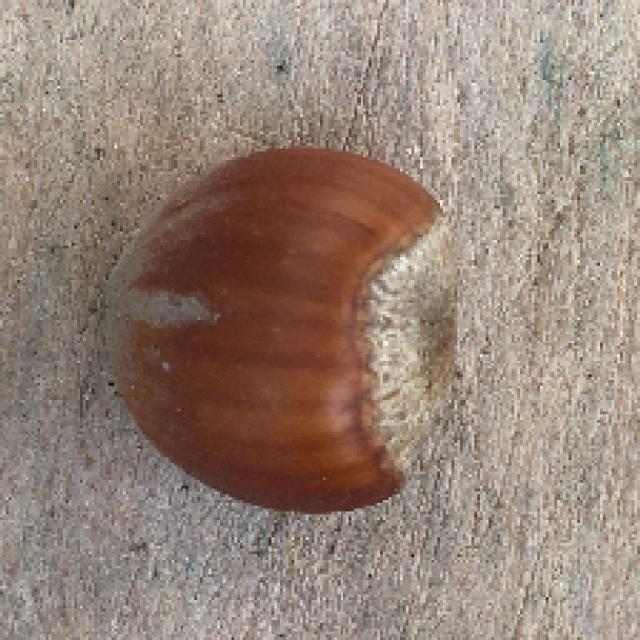qualityHazelnut: (106, 142, 471, 512)
